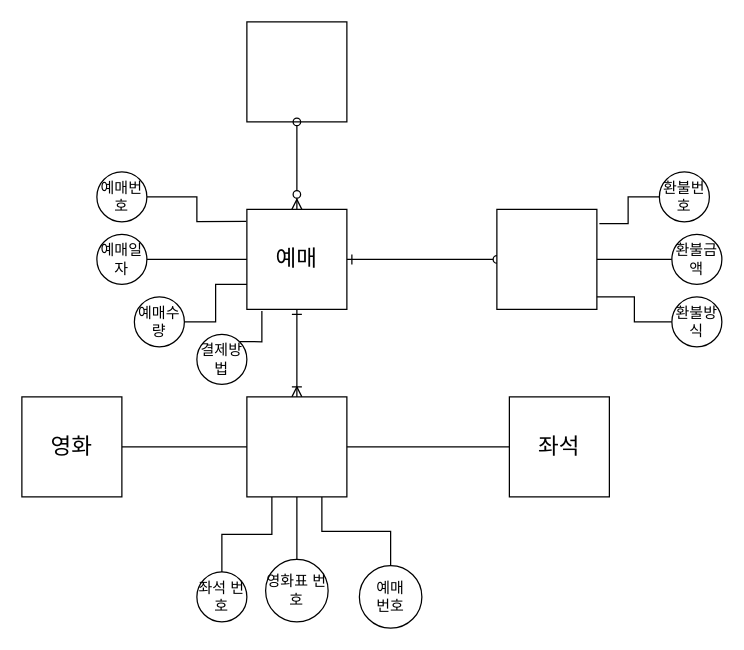
Some shapes in this 744 by 650 pixel diagram are drawn without their labels. The box of each missing label's shape, as (x1, y1, x2, y2) in pixels:
영화표: (246, 396, 347, 497)
환불: (496, 208, 597, 309)
회원: (246, 21, 347, 122)
